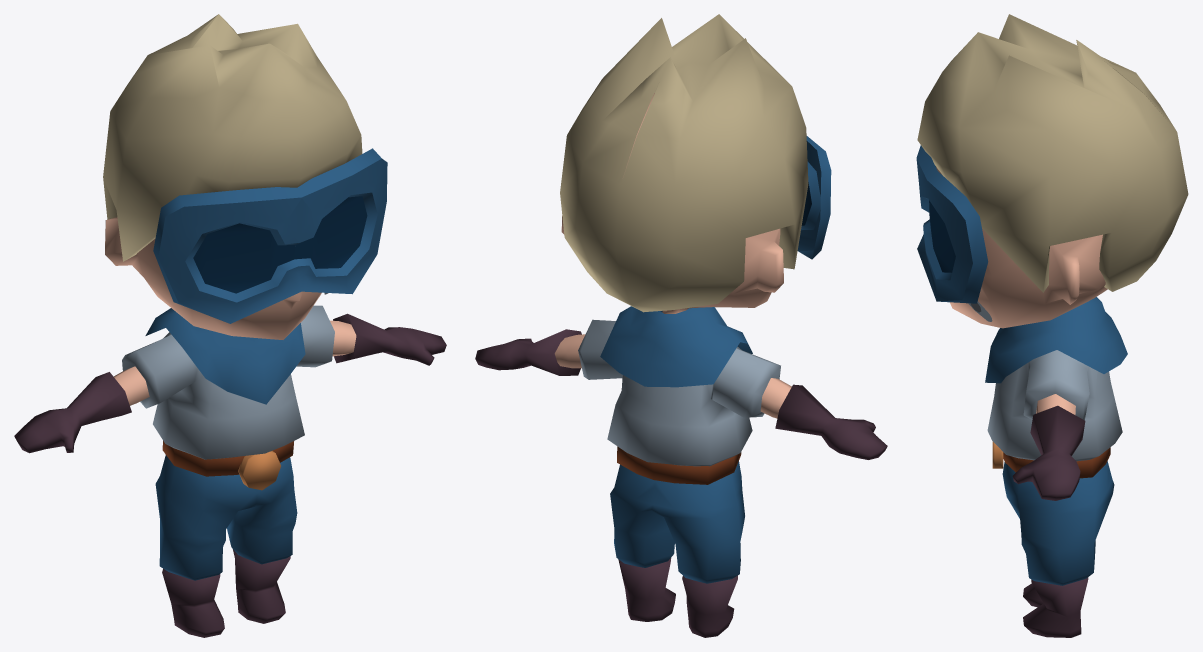
3 views of the same model, side by side, from view 1: azimuth 30°, elevation 25°; view 2: azimuth 150°, elevation 25°; view 3: azimuth 270°, elevation 25° (orthographic). The views are drawn at different scales.
Visible parts, largest first — view 1: CH_001; view 2: CH_001; view 3: CH_001.
Part boxes in pixels (box(x1,y1,x2,y2)): CH_001: box(14, 14, 446, 637); CH_001: box(475, 14, 887, 637); CH_001: box(916, 14, 1188, 637).
Size of the model in its own units: 129 by 176 by 74.15.
